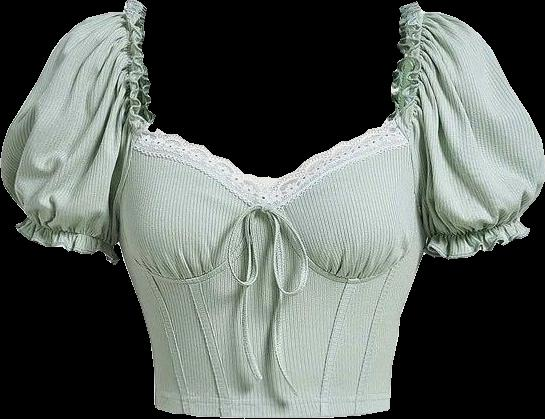Bodice: (117, 113, 427, 417)
Neckline: (122, 211, 425, 284), (138, 118, 396, 189)
Sleeve: (1, 0, 155, 264), (391, 1, 544, 259)
Sleeveline: (389, 115, 429, 248), (115, 124, 145, 245), (23, 214, 113, 247), (404, 10, 426, 124), (426, 215, 522, 236), (122, 12, 137, 129)
Waistline: (152, 403, 391, 418)
